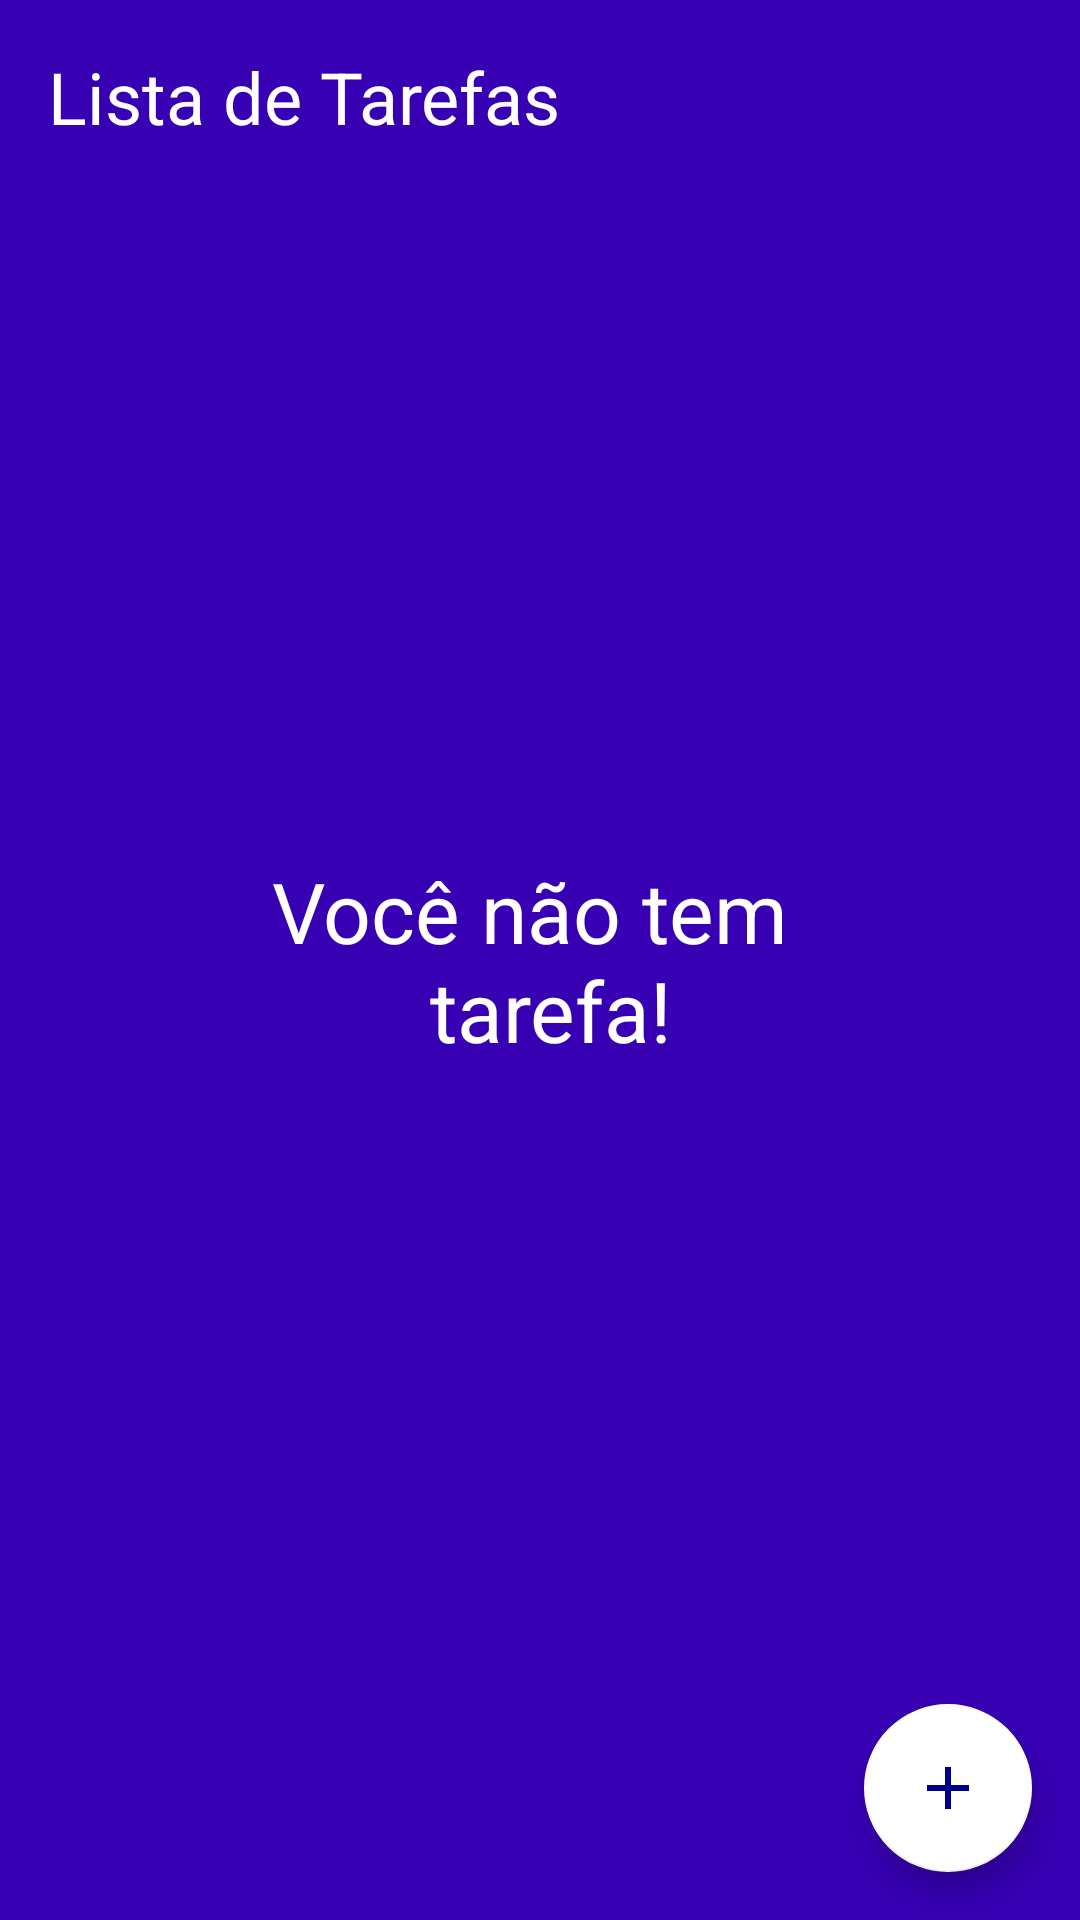

Where icons sit on this 1080*1920 app screen, as [x1,y1,x2,y2]:
Nova Tarefa: [864,1704,1032,1872]
